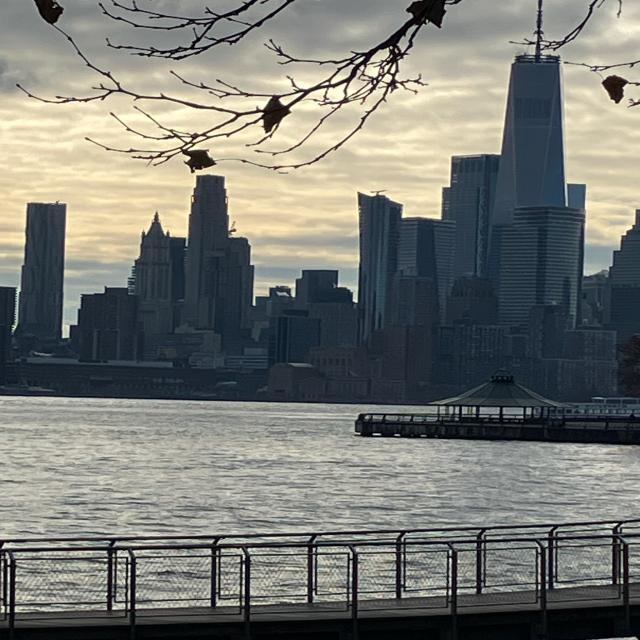WTC: (494, 6, 570, 207)
